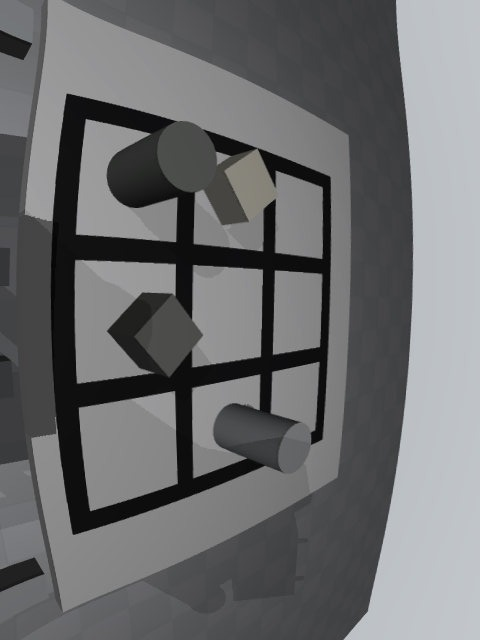can: (213, 403, 311, 474)
cube: (107, 293, 203, 378)
cylinder: (106, 121, 217, 208)
foam: (203, 149, 279, 225)
